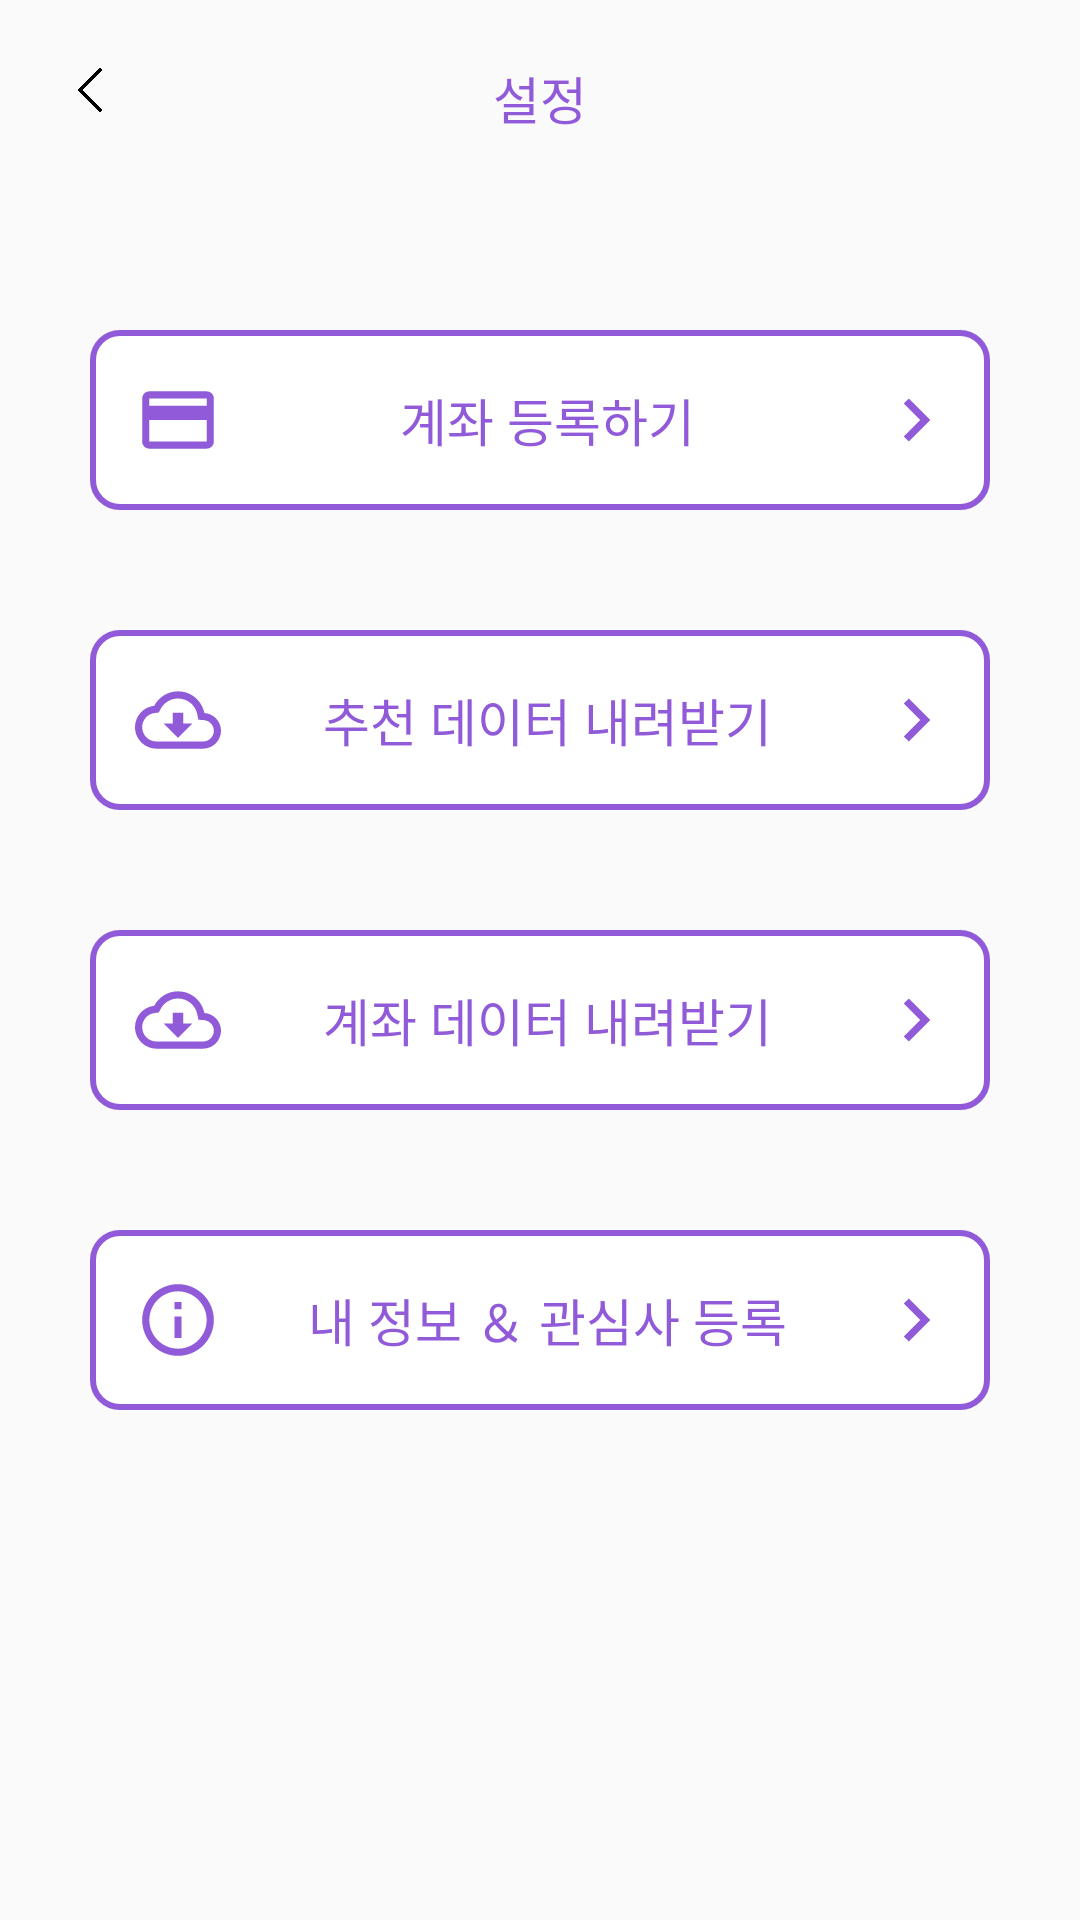

Point at icon controls on the screen. Image size 1080*1920, points as (x,y).
back: (90,90)
chevron right: (917,420), (917,720), (917,1020), (917,1320)
cloud download: (178,720), (178,1020)
credit card: (178,420)
info: (178,1320)
